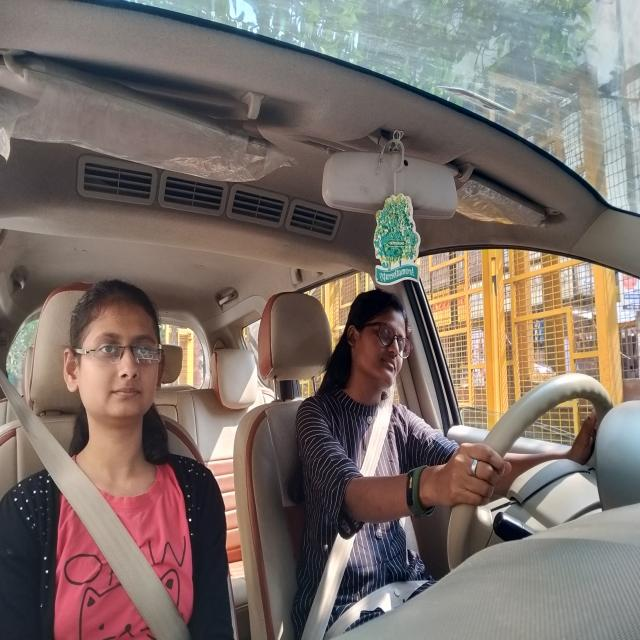drowsy: (342, 291, 416, 395)
person: (62, 276, 165, 425)
